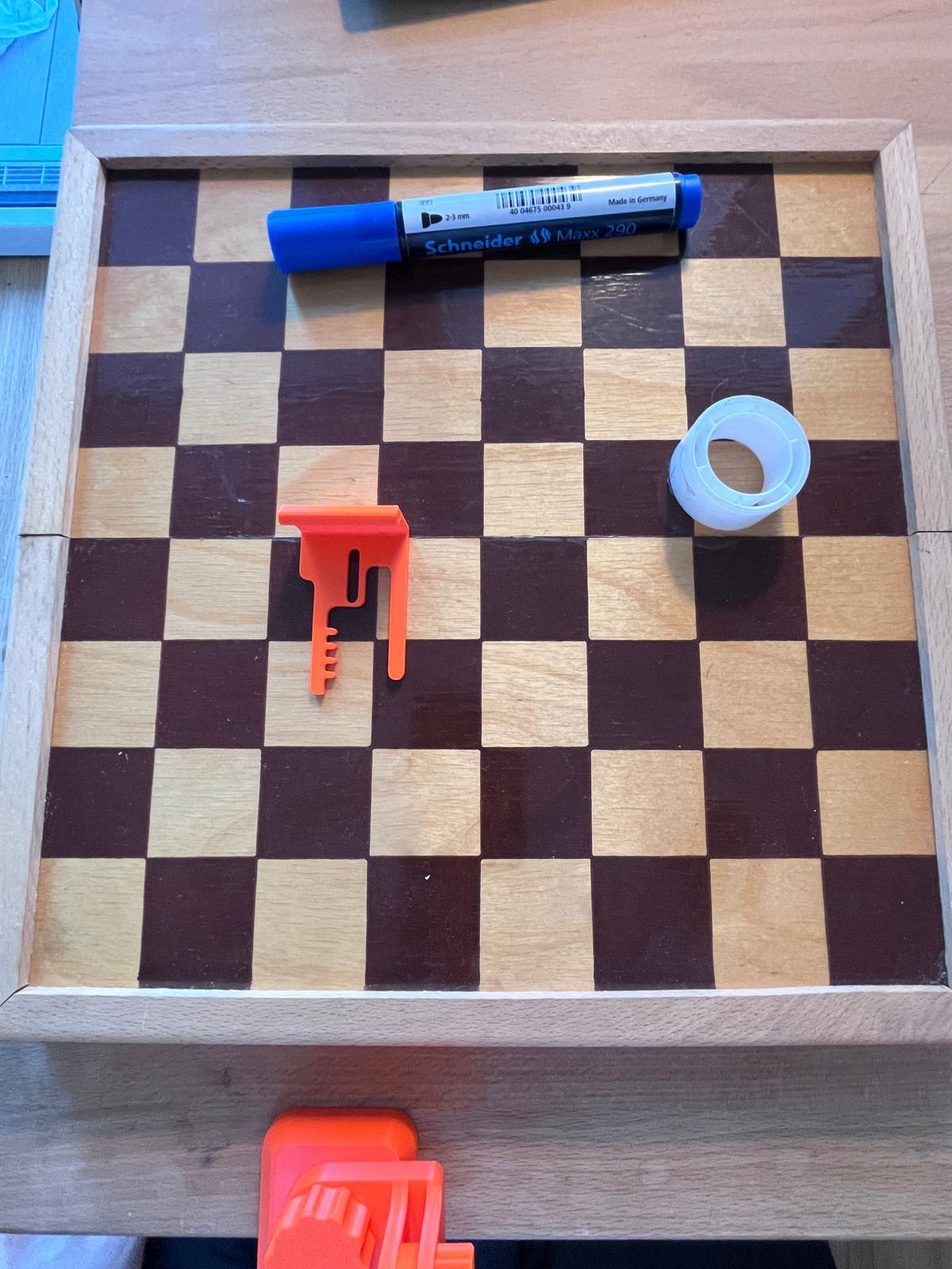clipper: (267, 496, 419, 696)
marker: (267, 170, 704, 284)
tape: (660, 395, 816, 541)
